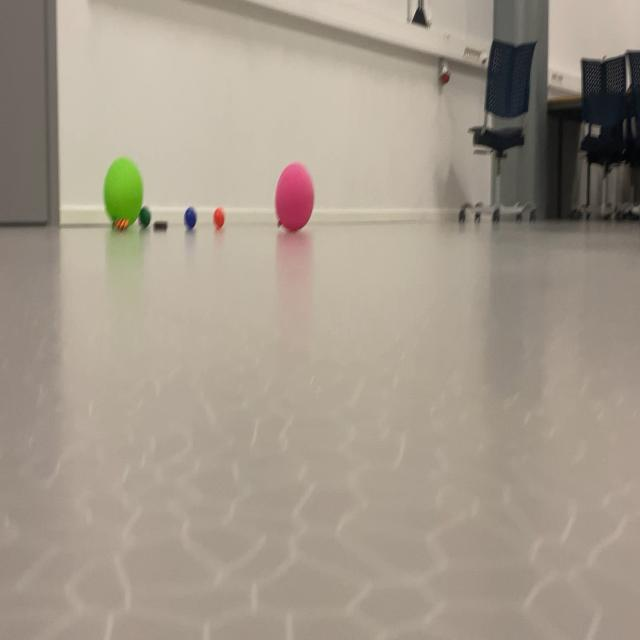7: (210, 208, 229, 244)
green ball: (178, 199, 205, 250)
red ball: (138, 206, 151, 236)
